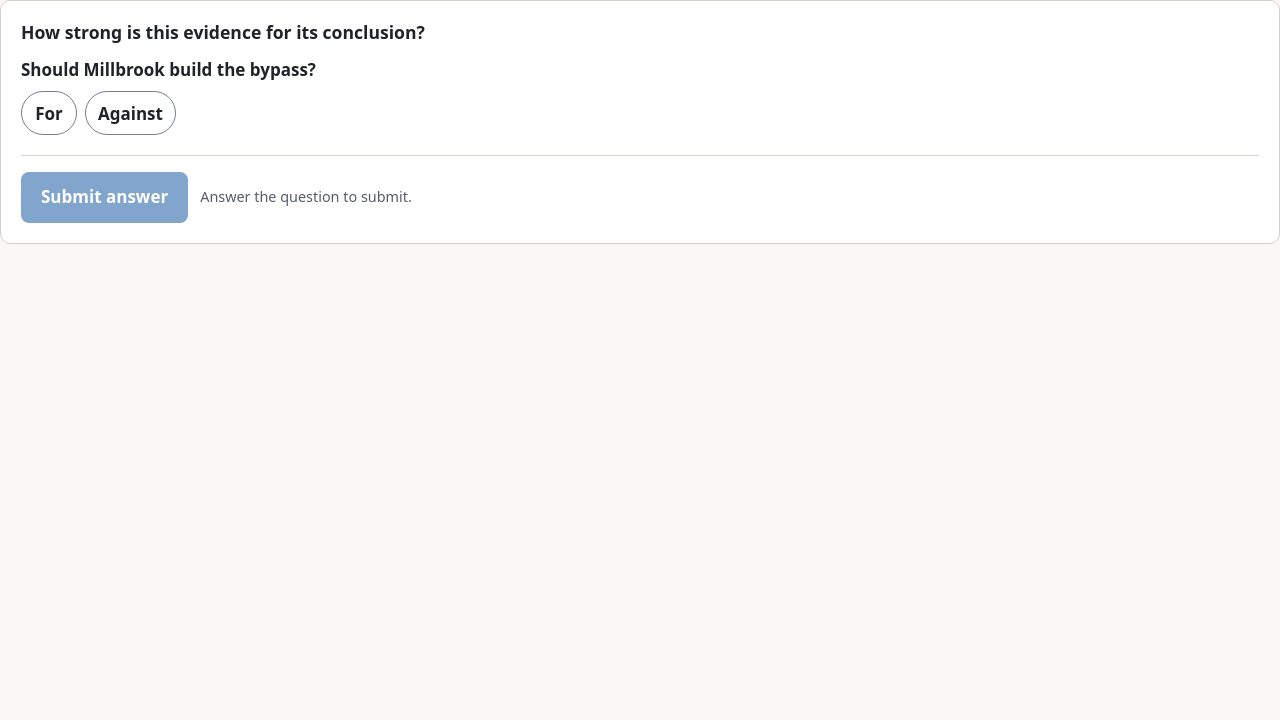
Test: PairedRating › asks for a stance first, takes no confidence, and can defer feedback
Expected: the text "survey of 200" is not shown
Step 1. Click the radio button labelled "For" → coordinates (49, 113), box left=21, top=91, right=77, bottom=135
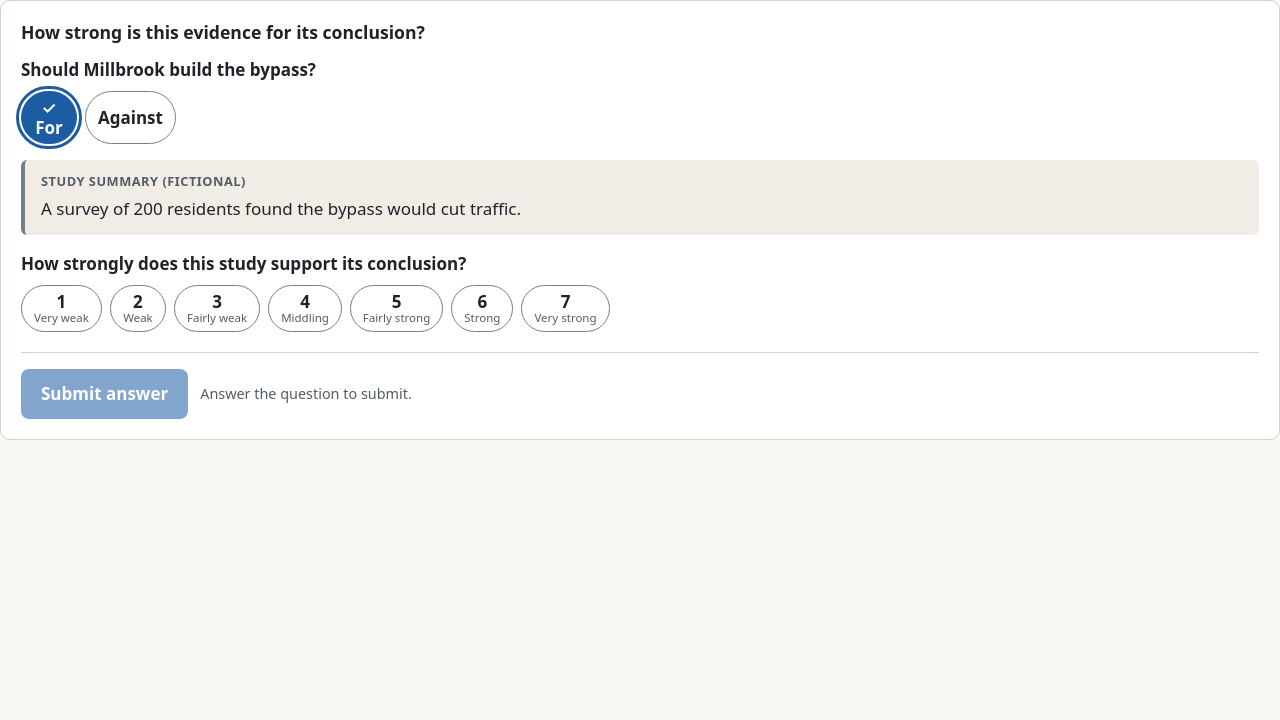
Step 2. Click the radio button labelled "6 Strong" → coordinates (482, 308), box left=451, top=285, right=513, bottom=332
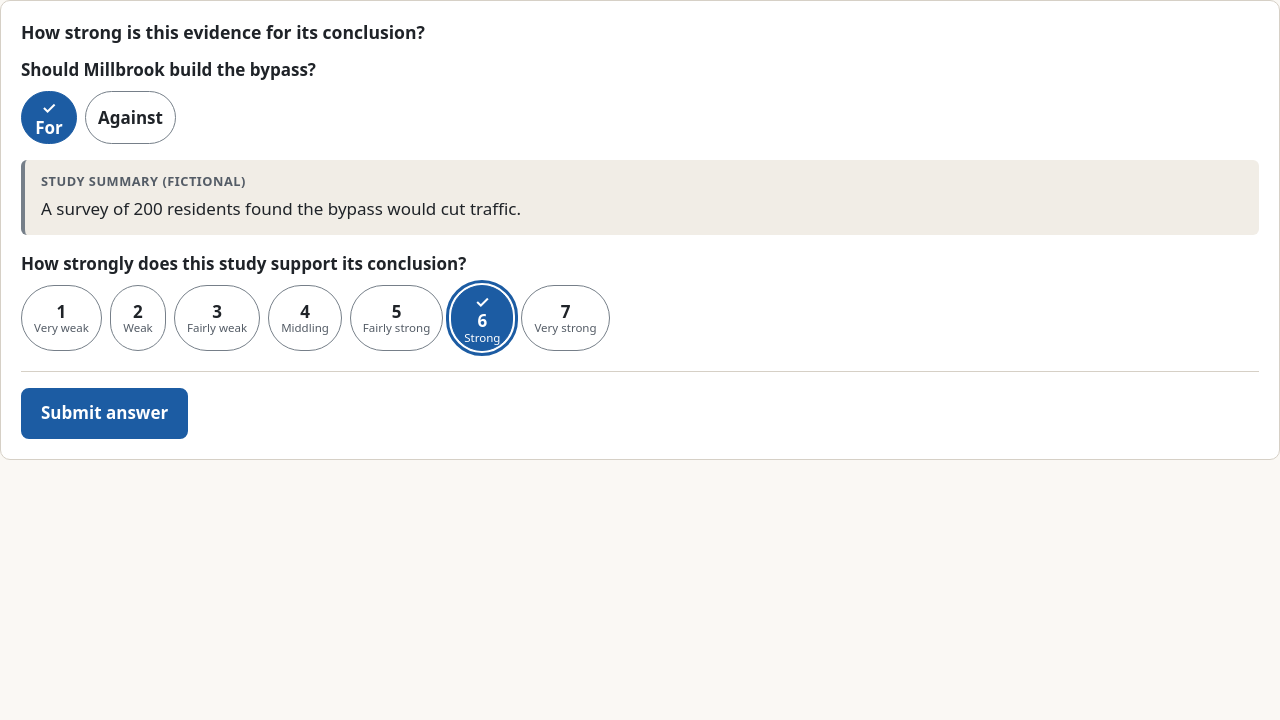
Step 3. Click the button "Submit answer" → coordinates (105, 413), box left=21, top=388, right=188, bottom=439
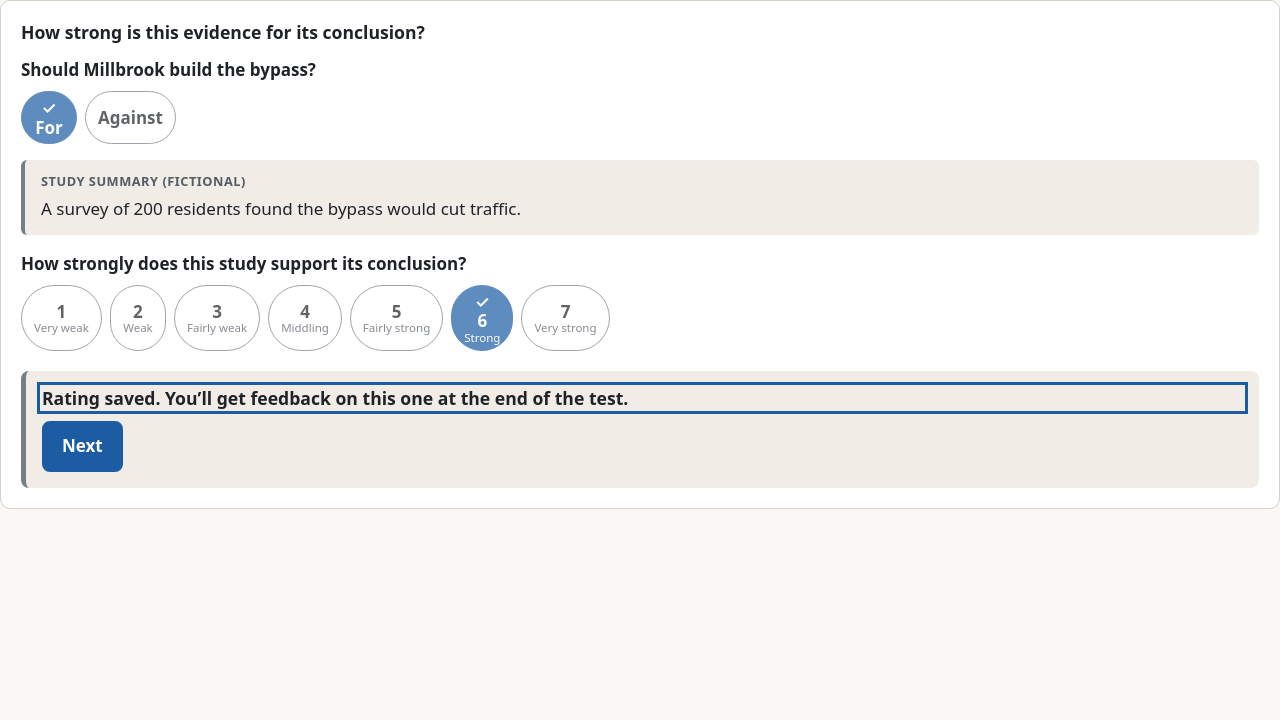
Expected: the heading "feedback on this one at the end" is shown, left=42, top=386, right=628, bottom=410
